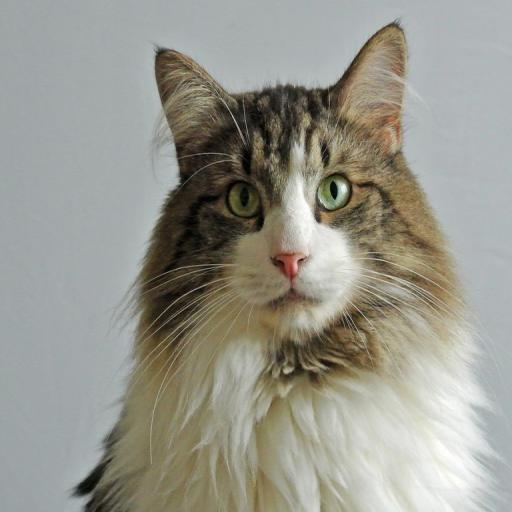cat: (73, 19, 502, 512)
